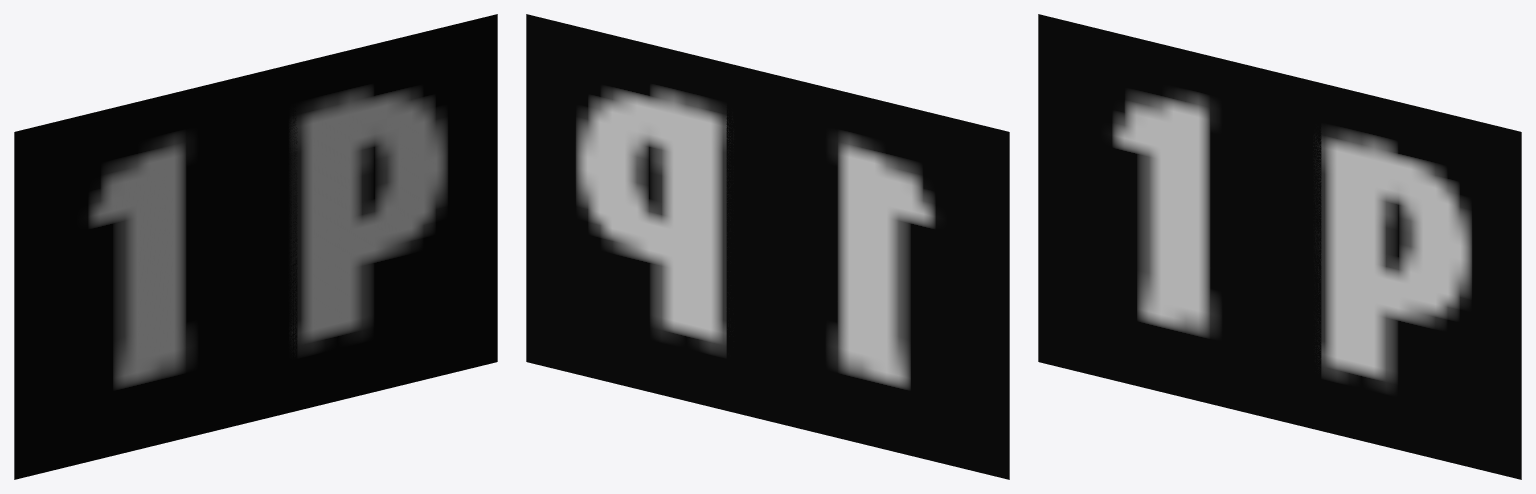
The picture shows the model from 3 angles, left to right: view 1: azimuth 30°, elevation 25°; view 2: azimuth 150°, elevation 25°; view 3: azimuth 330°, elevation 25°; orthographic projection.
Parts seen in each view (by area): view 1: Joint_0_Object_0; view 2: Joint_0_Object_0; view 3: Joint_0_Object_0.
Part boxes in pixels (box(x1,y1,x2,y2)): Joint_0_Object_0: box(14, 14, 497, 479); Joint_0_Object_0: box(526, 14, 1009, 479); Joint_0_Object_0: box(1038, 14, 1521, 479).
Size of the model in its own units: 26.39 by 18.14 by 0.
Materials: 1 (1 with a texture image).
